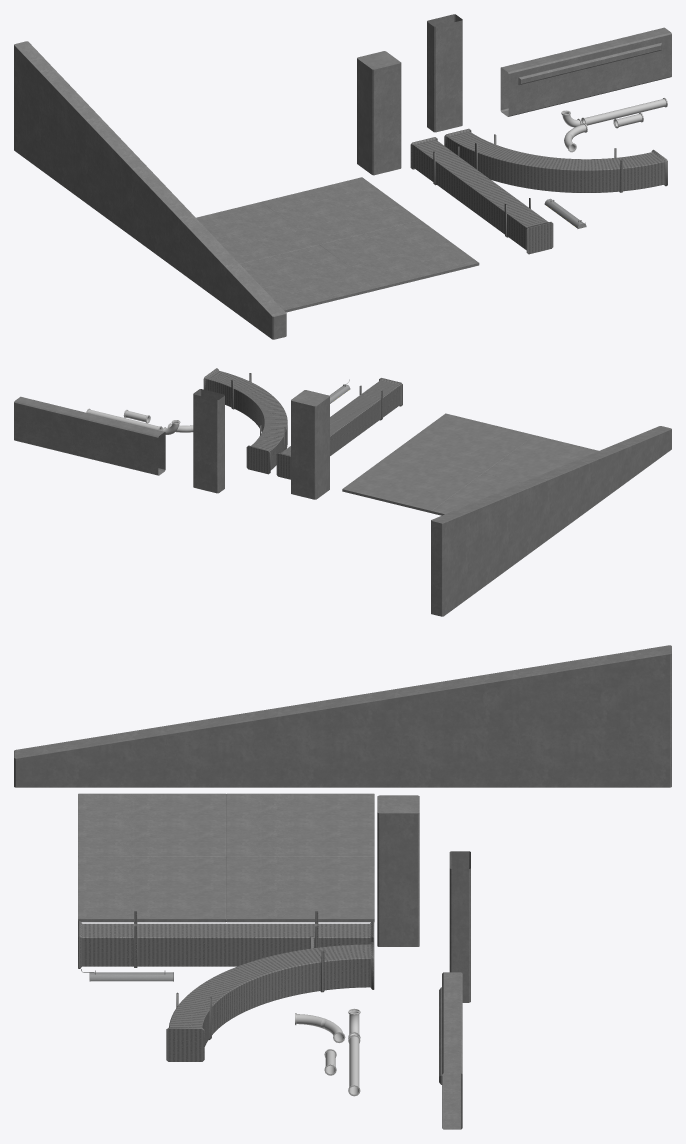
File: ModularProps.FBX
3 renders of one model, top to bottom at view 1: azimuth 30°, elevation 25°; view 2: azimuth 150°, elevation 25°; view 3: azimuth 270°, elevation 25°, orthographic. The views are drawn at different scales.
Parts seen in each view (by area): view 1: Box003, Box002, Box007, Box009, Box004, Box001, Box006, Box008, Cylinder002; view 2: Box003, Box002, Box007, Box001, Box009, Box006, Box004; view 3: Box003, Box002, Box004, Box009, Box001, Box007, Box006, Cylinder001.
Boxes of the visible parts, <box> form: Box003: <box>14,41,286,339</box>; Box002: <box>196,177,479,312</box>; Box007: <box>500,27,671,116</box>; Box009: <box>444,128,667,192</box>; Box004: <box>410,137,553,254</box>; Box001: <box>357,51,401,175</box>; Box006: <box>427,14,462,132</box>; Box008: <box>518,42,661,84</box>; Cylinder002: <box>581,98,667,125</box>; Box003: <box>431,426,671,616</box>; Box002: <box>342,413,598,515</box>; Box007: <box>14,396,165,475</box>; Box001: <box>291,390,329,499</box>; Box009: <box>203,368,287,474</box>; Box006: <box>193,389,224,493</box>; Box004: <box>276,378,402,479</box>; Box003: <box>14,645,671,787</box>; Box002: <box>78,793,374,922</box>; Box004: <box>78,911,374,968</box>; Box009: <box>166,936,374,1061</box>; Box001: <box>377,795,419,946</box>; Box007: <box>442,972,462,1129</box>; Box006: <box>449,851,470,1002</box>; Cylinder001: <box>81,969,173,981</box>.
Size of the model in its own units: 392 by 70.76 by 311.
